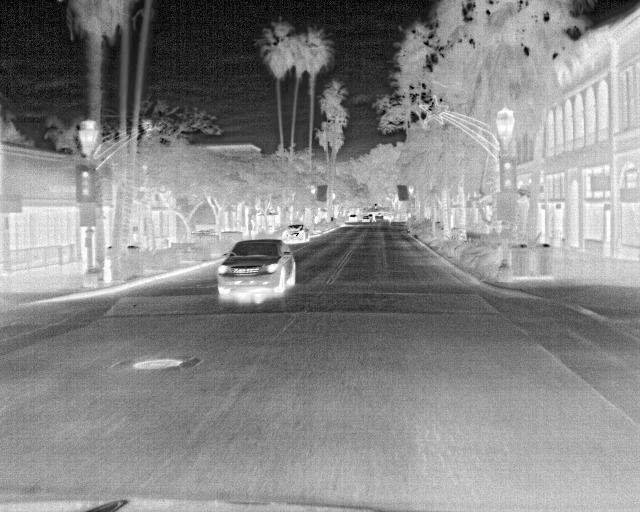car: (218, 238, 297, 293), (278, 223, 309, 244), (347, 212, 358, 223), (360, 214, 372, 223)
